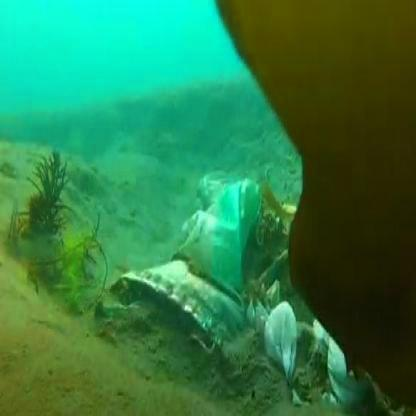plastic: (154, 171, 316, 381)
